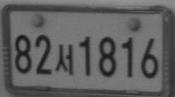1: (77, 35, 96, 76), (120, 36, 138, 77)
2: (34, 33, 52, 75)
6: (140, 37, 159, 79)
8: (97, 35, 117, 77), (14, 34, 32, 74)
서: (55, 43, 74, 76)
